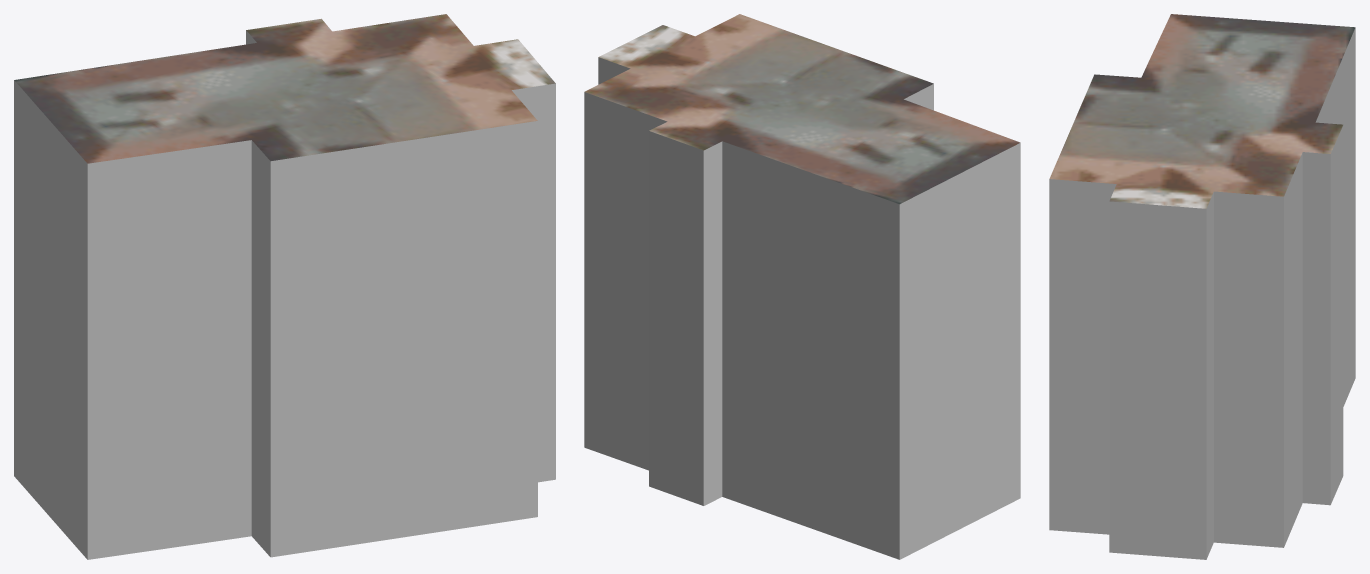
File: DEBW_0010007TxaG.gltf
3 views of the same model, side by side, from view 1: azimuth 30°, elevation 25°; view 2: azimuth 150°, elevation 25°; view 3: azimuth 270°, elevation 25° (orthographic). The views are drawn at different scales.
Parts seen in each view (by area): view 1: Z_UP; view 2: Z_UP; view 3: Z_UP.
Part boxes in pixels (x1,y1,x2,y2): Z_UP: (14,14,555,559); Z_UP: (584,14,1020,559); Z_UP: (1049,14,1355,559).
Size of the model in its own units: 21.31 by 17.91 by 14.15.
Materials: 2 (1 with a texture image).
